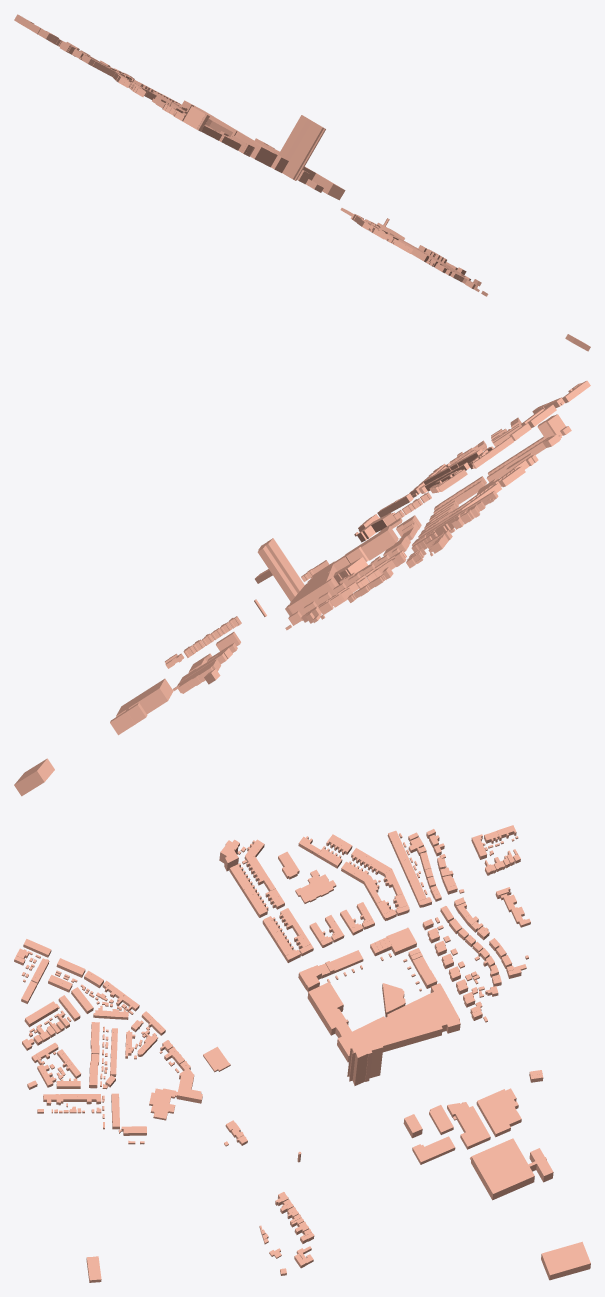
3 views of the same model, one above another, from view 1: azimuth 30°, elevation 25°; view 2: azimuth 150°, elevation 25°; view 3: azimuth 270°, elevation 25° (orthographic). The views are drawn at different scales.
Size of the model in its own units: 509 by 375 by 678.
